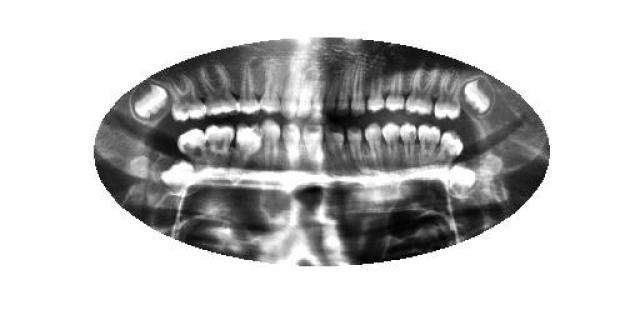Restorations: (128, 80, 174, 124), (458, 75, 498, 117)
